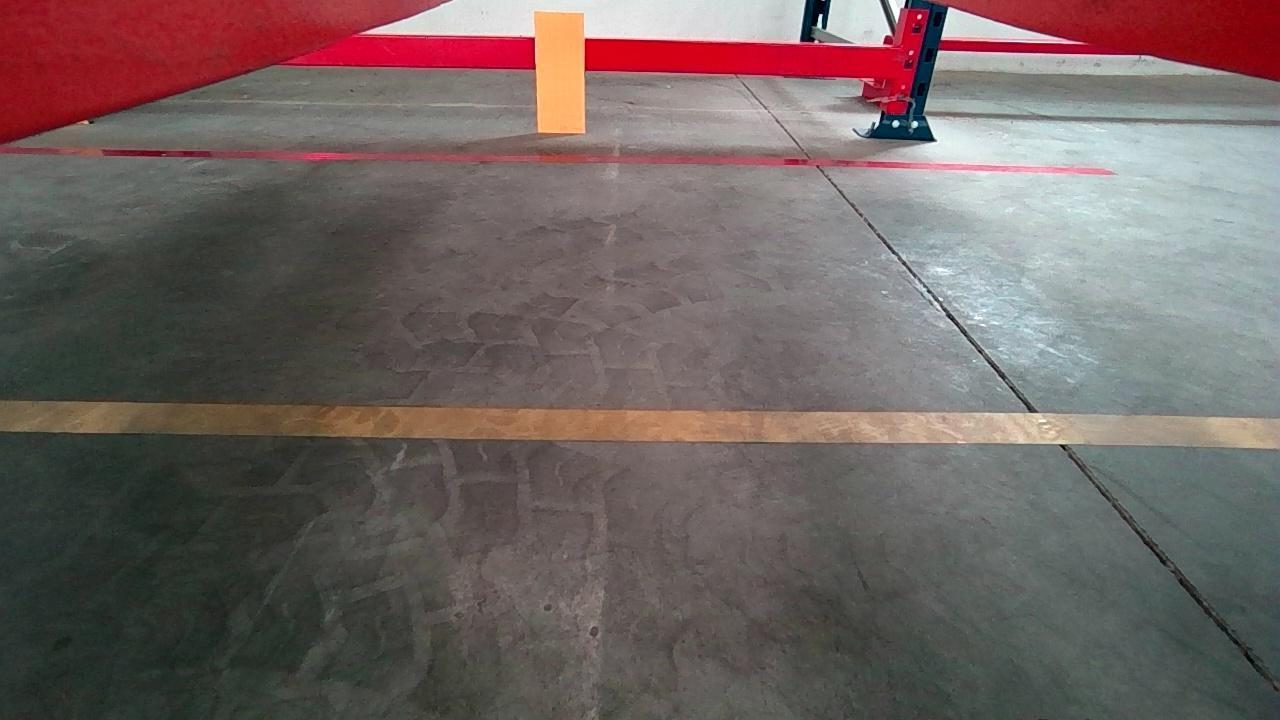h_rack: (278, 34, 916, 75)
orange_strip: (535, 14, 584, 129)
red_line: (0, 142, 1114, 174)
yellow_line: (1, 398, 1280, 448)
